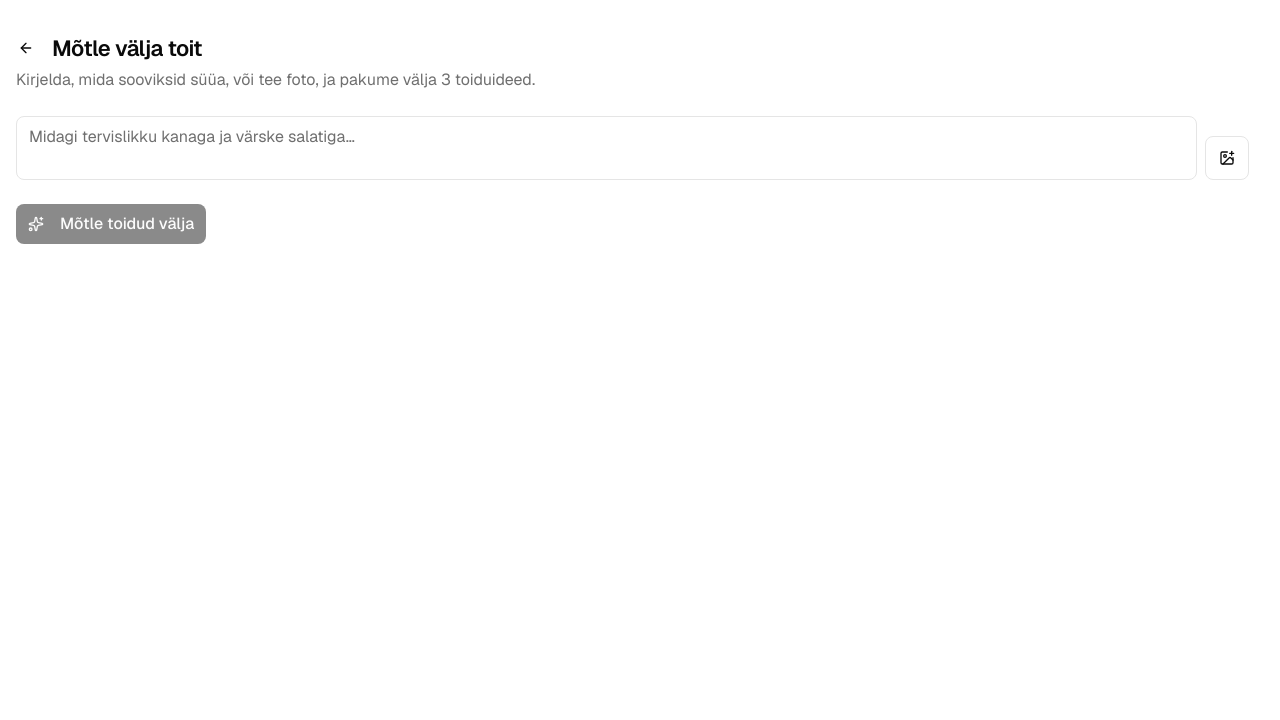
Test: ImagineClient focus and announcements (HON-1366) › announces the ideas in Estonian
Type "something with lentils" into the text box. click: (606,148)
box: [16,116,1197,180]
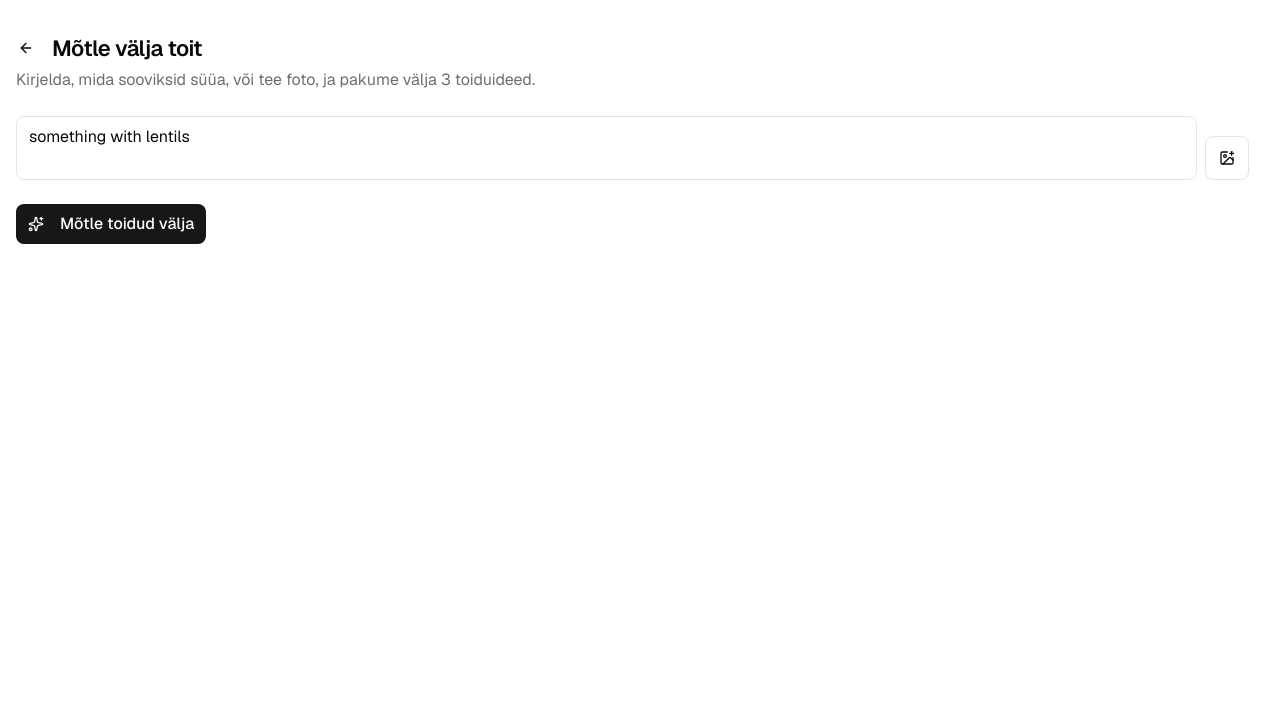
Click the button "Mõtle toidud välja". click: (111,224)
box: [16,204,206,244]
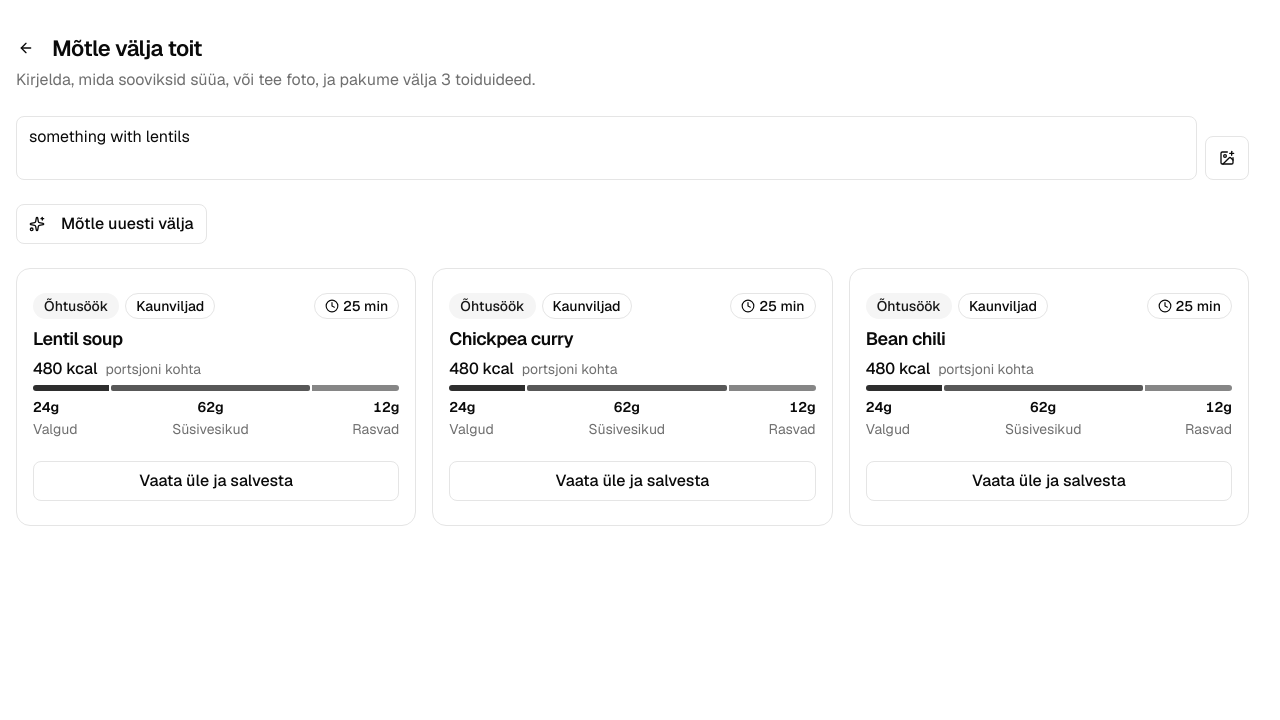
Check: the heading "Lentil soup" is shown, box [33,325,123,353]
